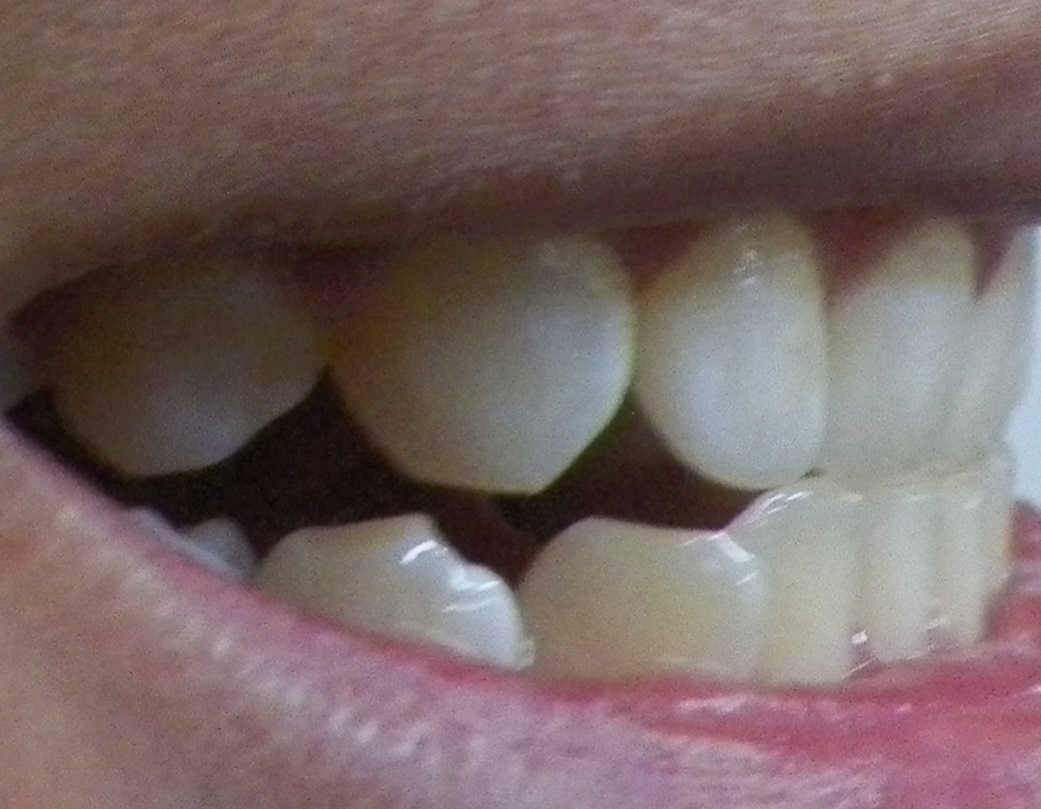boca: (74, 218, 1034, 679)
